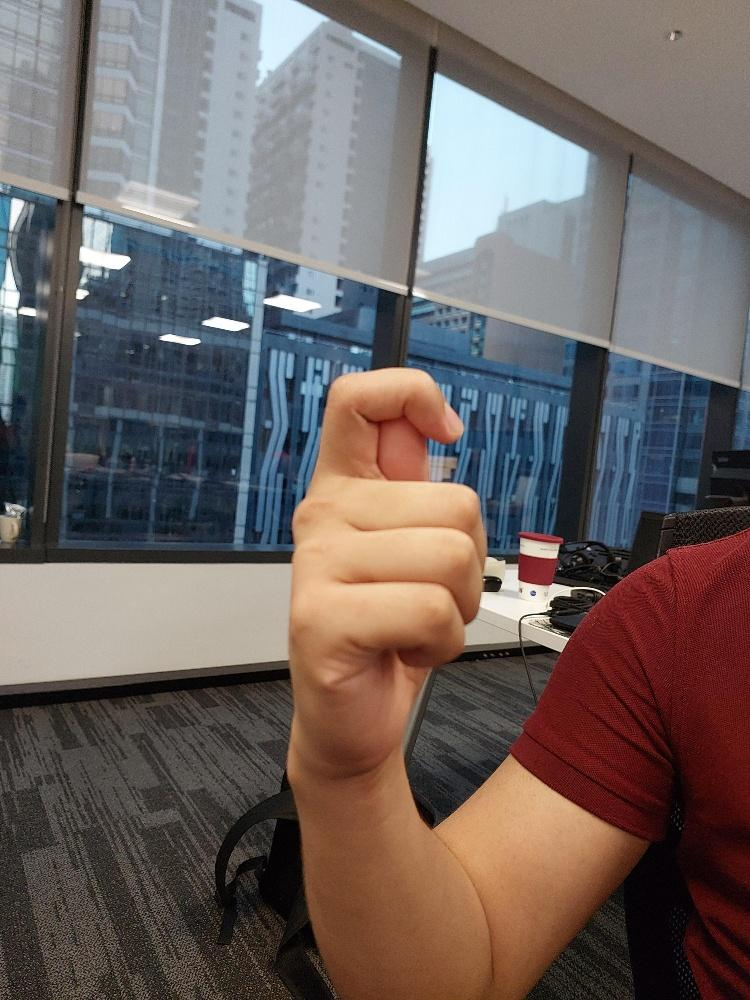t: (285, 364, 493, 769)
